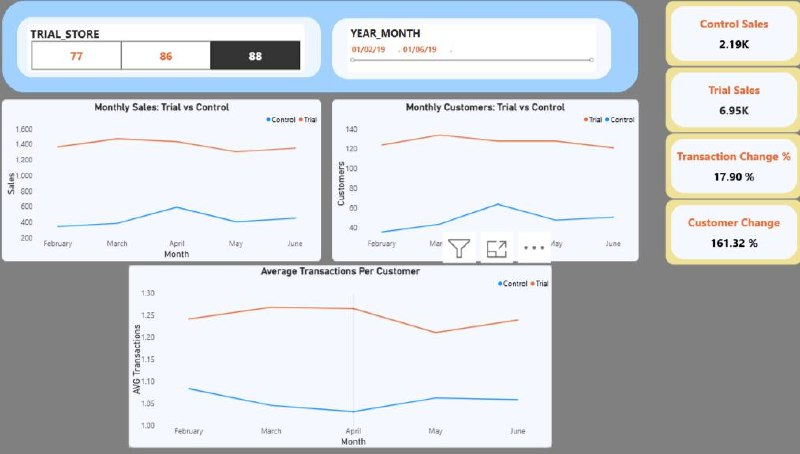

The page's visual inventory and layout, read from the dashboard file:
{"tool":"powerbi","page":{"name":"Page ١","canvas":[6000,3500],"ordinal":0},"visuals":[{"type":"shape","box":[90,110,4610,670],"z":0},{"type":"shape","box":[200,230,2200,440],"z":1000},{"type":"slicer","fields":{"Values":["Table3.TRIAL_STORE"]},"box":[270,280,2010,350],"z":2000},{"type":"shape","box":[2480,240,2020,440],"z":3000},{"type":"slicer","fields":{"Values":["Table2.YEAR_MONTH"]},"box":[2592.3,284.6,1800,350],"z":4000},{"type":"cardVisual","fields":{"Data":["Sum(Table2.TOTAL_SALES_TRIAL)"]},"box":[4890,590,1000,480],"z":5000},{"type":"cardVisual","fields":{"Data":["Sum(Table2.TOTAL_SALES_CONTROL)"]},"box":[4890,110,1000,480],"z":6000},{"type":"cardVisual","fields":{"Data":["Campaign Results.Customer Change"]},"box":[4890,1550,1000,480],"z":7000},{"type":"cardVisual","fields":{"Data":["Campaign Results.Transaction Change %"]},"box":[4890,1070,1000,480],"z":8000},{"type":"lineChart","title":"Monthly Sales: Trial vs Control","fields":{"Category":["Table2.YEAR_MONTH.Variation.Date Hierarchy.Month"],"Y":["Sum(Table2.TOTAL_SALES_CONTROL)","Sum(Table2.TOTAL_SALES_TRIAL)"]},"box":[90,830,2310,1170],"z":10000},{"type":"lineChart","title":"Monthly Customers: Trial vs Control","fields":{"Category":["Table2.YEAR_MONTH.Variation.Date Hierarchy.Month"],"Y":["Sum(Table2.TOTAL_CUSTOMERS_TRIAL)","Sum(Table2.TOTAL_CUSTOMERS_CONTROL)"]},"box":[2480,830,2220,1170],"z":11000},{"type":"lineChart","title":"Average Transactions Per Customer","fields":{"Category":["Table2.YEAR_MONTH.Variation.Date Hierarchy.Month"],"Y":["Sum(Table2.AVG_TXN_PER_CUSTOMER_CONTROL)","Sum(Table2.AVG_TXN_PER_CUSTOMER_TRIAL)"]},"box":[1010,2030,3060,1320],"z":12000}]}

Visuals, with their boxes in screenshot pixels (x1, y1, x2, y2), scaled from the page's 6000x3500 canvas onto the 800x454 screenshot:
shape: pyautogui.locateOnScreen(12, 14, 627, 101)
shape: pyautogui.locateOnScreen(27, 30, 320, 87)
slicer - Table3.TRIAL_STORE: pyautogui.locateOnScreen(36, 36, 304, 82)
shape: pyautogui.locateOnScreen(331, 31, 600, 88)
slicer - Table2.YEAR_MONTH: pyautogui.locateOnScreen(346, 37, 586, 82)
cardVisual - Sum(Table2.TOTAL_SALES_TRIAL): pyautogui.locateOnScreen(652, 77, 785, 139)
cardVisual - Sum(Table2.TOTAL_SALES_CONTROL): pyautogui.locateOnScreen(652, 14, 785, 77)
cardVisual - Campaign Results.Customer Change: pyautogui.locateOnScreen(652, 201, 785, 263)
cardVisual - Campaign Results.Transaction Change %: pyautogui.locateOnScreen(652, 139, 785, 201)
"Monthly Sales: Trial vs Control" lineChart: pyautogui.locateOnScreen(12, 108, 320, 259)
"Monthly Customers: Trial vs Control" lineChart: pyautogui.locateOnScreen(331, 108, 627, 259)
"Average Transactions Per Customer" lineChart: pyautogui.locateOnScreen(135, 263, 543, 435)
